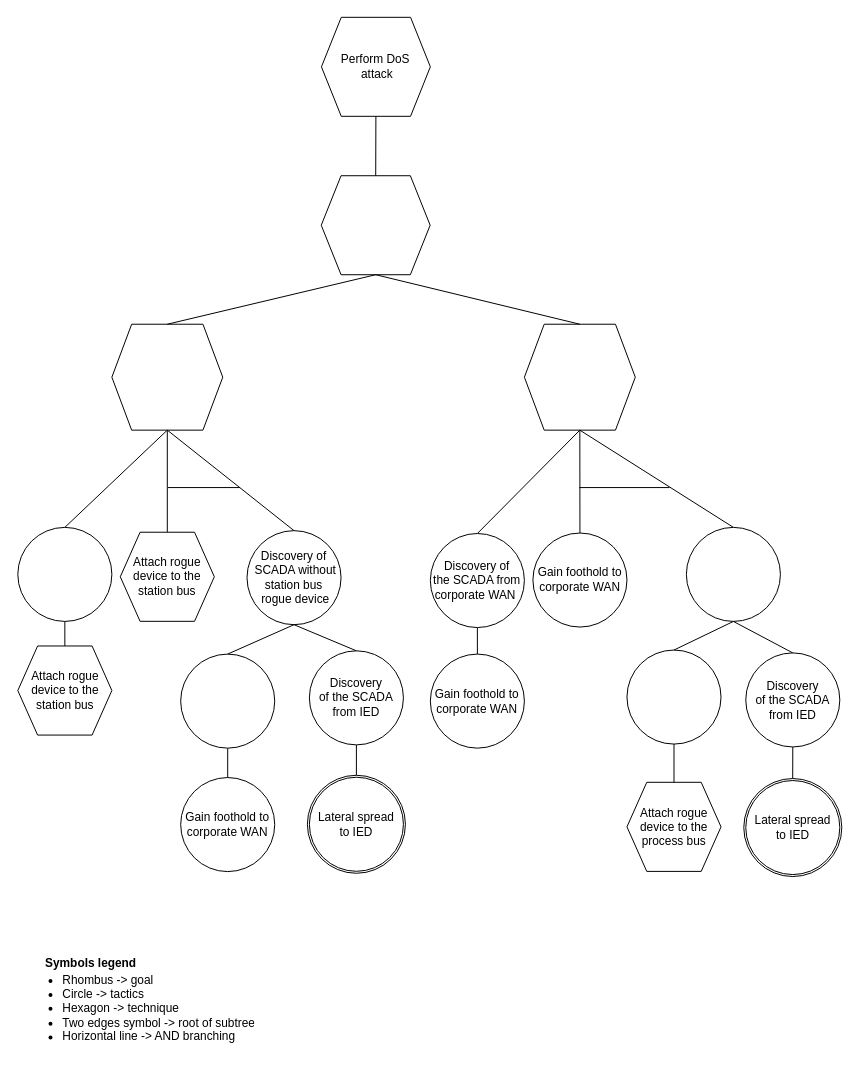
Image size: 859x1078. Some labels were removed from this diagram. The shapes that lost their labels are listed below. From the top down, each one's box as (x1, y1, x2, y2) in pixels, then its label:
(320, 175, 430, 275): Perform DoS attack on the SCADA
(111, 323, 223, 430): DoS SCADA with station bus rogue device
(523, 323, 635, 430): DoS SCADA from corporate WAN
(17, 526, 112, 621): Discovery of the SCADA with the station bus rogue device
(685, 526, 780, 621): Discovery of the SCADA not from corporate WAN
(180, 653, 275, 748): Discovery of SCADA from corporate WAN
(626, 649, 721, 744): Discovery of SCADA with station bus device
